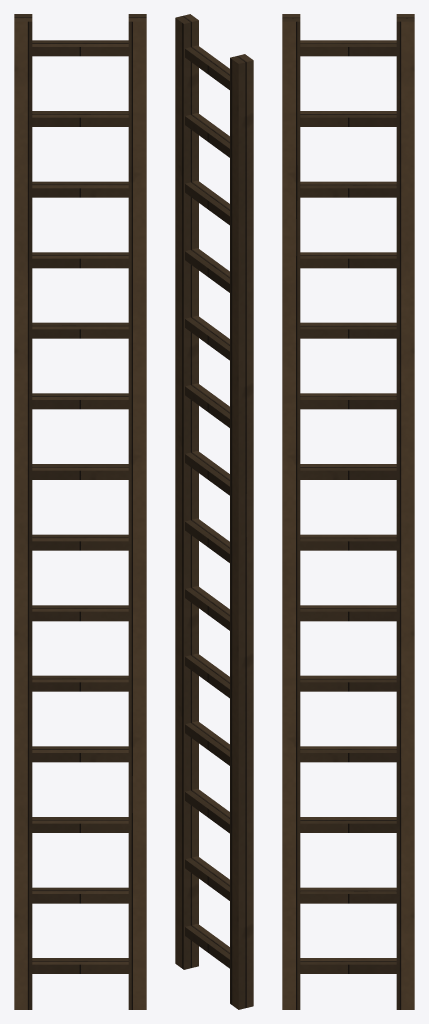
Rendered from B_ladder.glb.
3 renders of one model, left to right at view 1: azimuth 90°, elevation 25°; view 2: azimuth 210°, elevation 25°; view 3: azimuth 270°, elevation 25°, orthographic. The views are drawn at different scales.
Parts seen in each view (by area): view 1: B_ladder; view 2: B_ladder; view 3: B_ladder.
Boxes of the visible parts, x1,y1,x2,y2 form: B_ladder: (14, 14, 146, 1009); B_ladder: (175, 14, 253, 1009); B_ladder: (282, 14, 414, 1009).
Bounding box in the file's own units: 0.07 × 4.2 × 0.51.
1 material, 1 textured.
